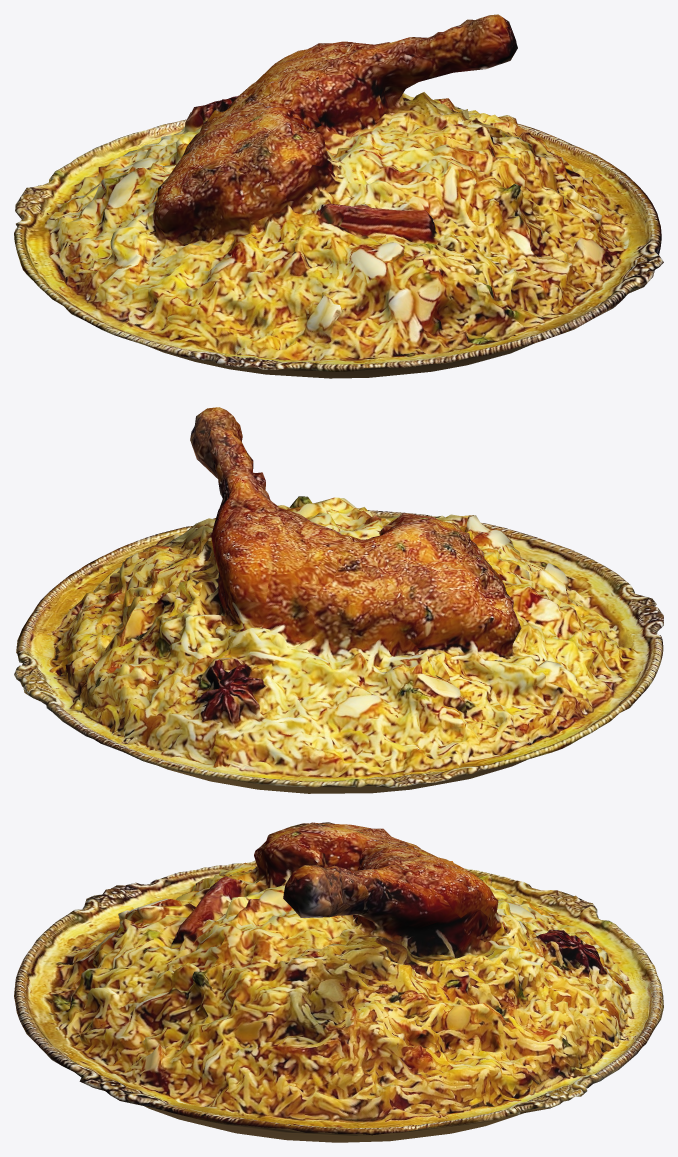
File: BehrouzBiryaniOptimized.gltf
The picture shows the model from 3 angles, top to bottom: view 1: azimuth 30°, elevation 25°; view 2: azimuth 150°, elevation 25°; view 3: azimuth 270°, elevation 25°; orthographic projection.
Parts seen in each view (by area): view 1: Biryani.007; view 2: Biryani.007; view 3: Biryani.007.
Boxes of the visible parts, bbox=[...] form: Biryani.007: bbox=[14, 14, 663, 378]; Biryani.007: bbox=[14, 407, 663, 793]; Biryani.007: bbox=[14, 822, 663, 1142].
Bounding box in the file's own units: 0.2466 × 0.0971 × 0.2469.
1 material, 1 textured.
